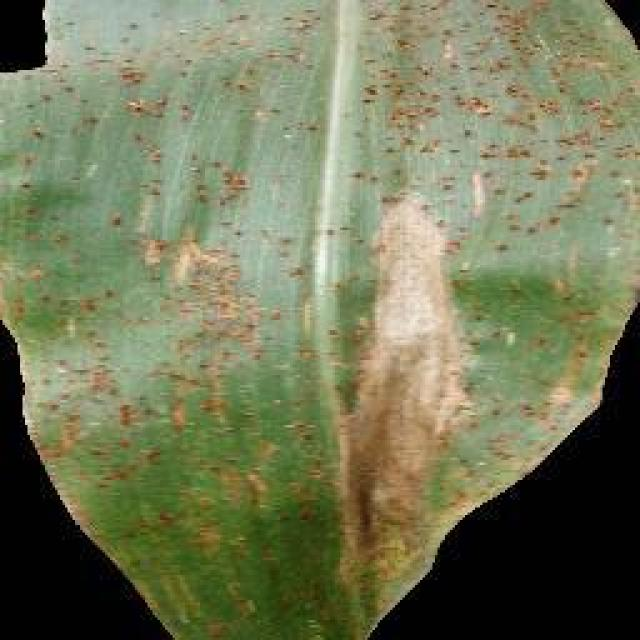Corn Common Rust: (65, 32, 475, 600)
